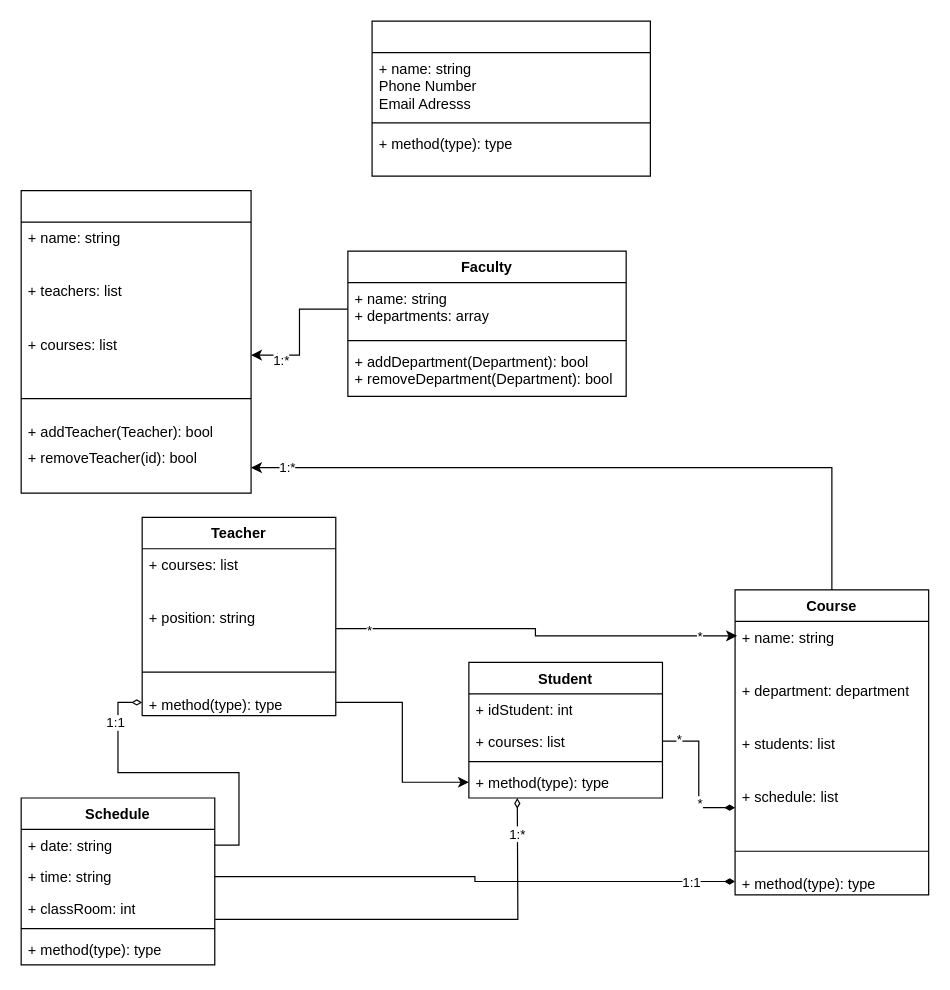
This 950x990 diagram has some shape labels left out. Each missing label, with the box of its shape:
Department: (20, 189, 251, 493)
University: (371, 20, 650, 176)
